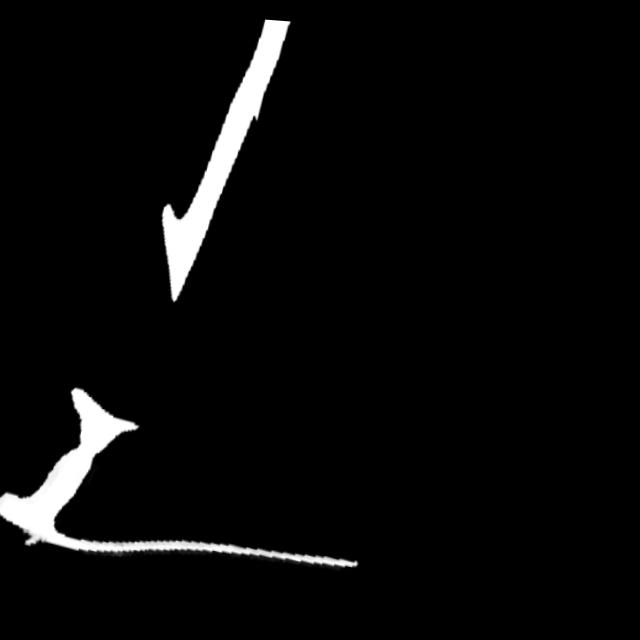sup_pli: (26, 524, 51, 554)
